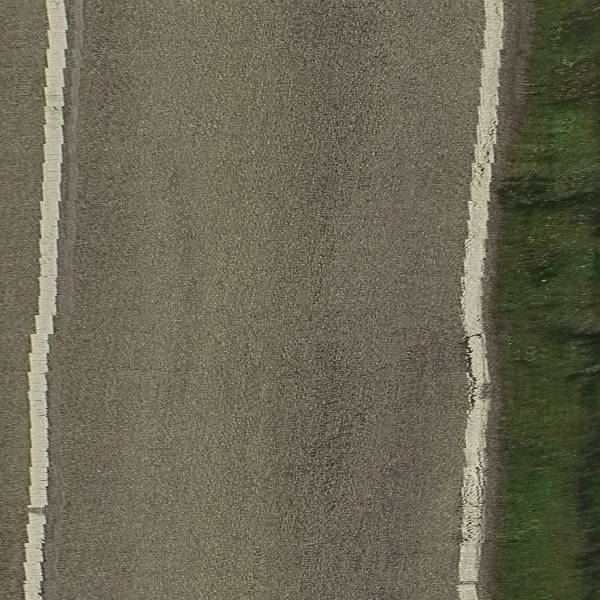road_damage: (454, 325, 484, 423)
